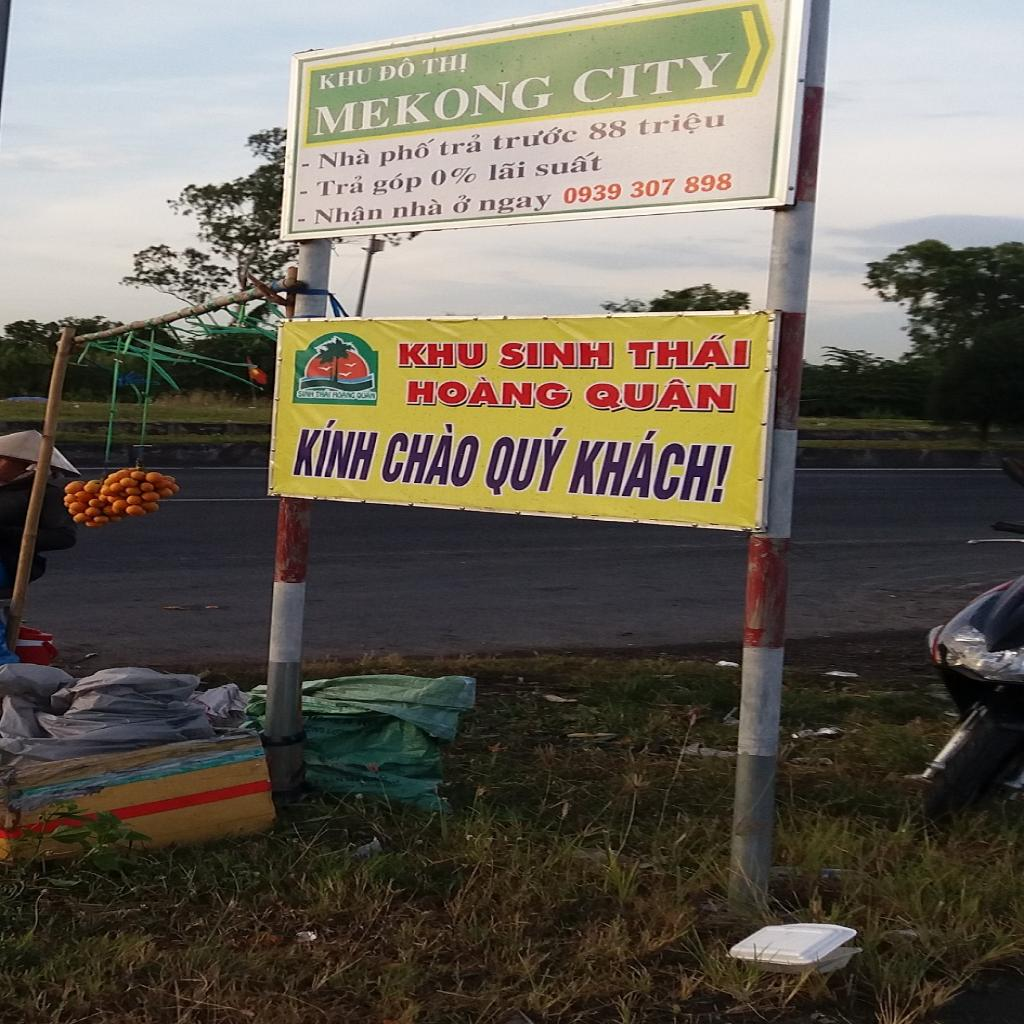text: (311, 72, 559, 140), (571, 48, 735, 107), (378, 420, 487, 492), (476, 424, 578, 500), (401, 372, 575, 414), (561, 170, 741, 208), (288, 416, 386, 482), (583, 376, 741, 416), (621, 332, 756, 371), (494, 339, 617, 370), (396, 341, 490, 371), (637, 108, 729, 138), (493, 122, 580, 152), (531, 148, 609, 180), (477, 192, 556, 218), (309, 204, 387, 229), (376, 136, 438, 167), (370, 169, 424, 198), (390, 195, 447, 221), (434, 131, 484, 159), (316, 173, 368, 198), (430, 163, 480, 189), (319, 67, 375, 90), (317, 146, 373, 169), (420, 52, 472, 76), (376, 55, 418, 83), (587, 116, 631, 142), (488, 157, 531, 183), (448, 193, 474, 216), (332, 390, 358, 400), (357, 390, 377, 400), (314, 389, 334, 398), (296, 390, 315, 399), (296, 189, 311, 196), (298, 162, 312, 169), (294, 218, 308, 224)
